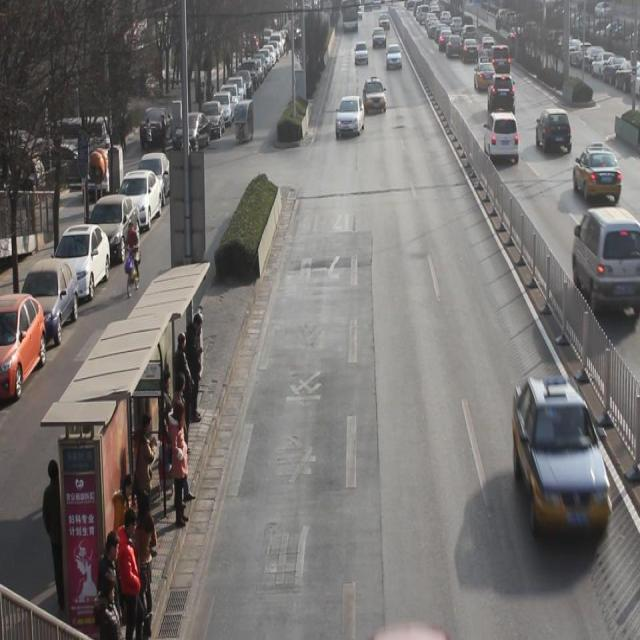car: (512, 376, 613, 537), (572, 140, 623, 203), (484, 111, 520, 165), (536, 108, 573, 155), (336, 94, 366, 136), (488, 73, 515, 113), (363, 76, 387, 115), (474, 59, 496, 89), (491, 44, 511, 73), (462, 38, 480, 64), (386, 44, 402, 71), (512, 18, 529, 40), (372, 26, 387, 49), (355, 41, 369, 64), (439, 28, 453, 50), (480, 38, 495, 56), (448, 34, 461, 54), (482, 30, 494, 48)
truck: (572, 207, 640, 316)
